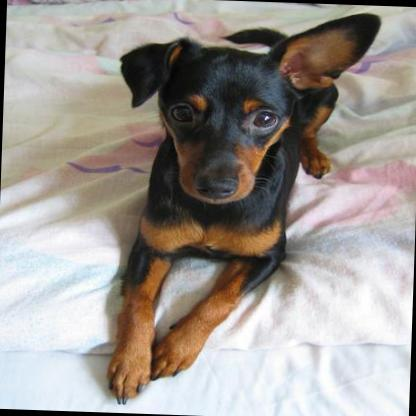miniature_pinscher: (105, 3, 383, 413)
